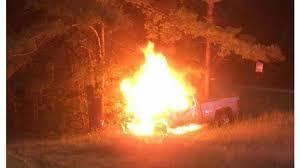fire: (111, 43, 206, 137)
